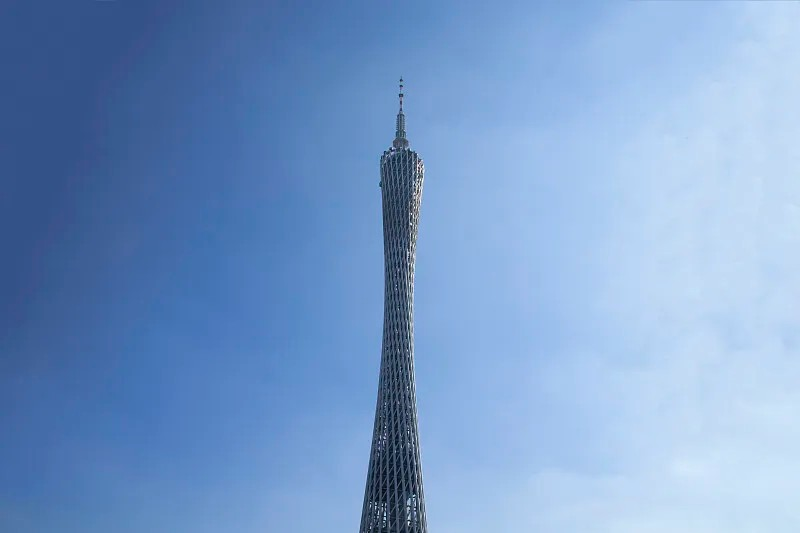Canton: (359, 77, 428, 533)
